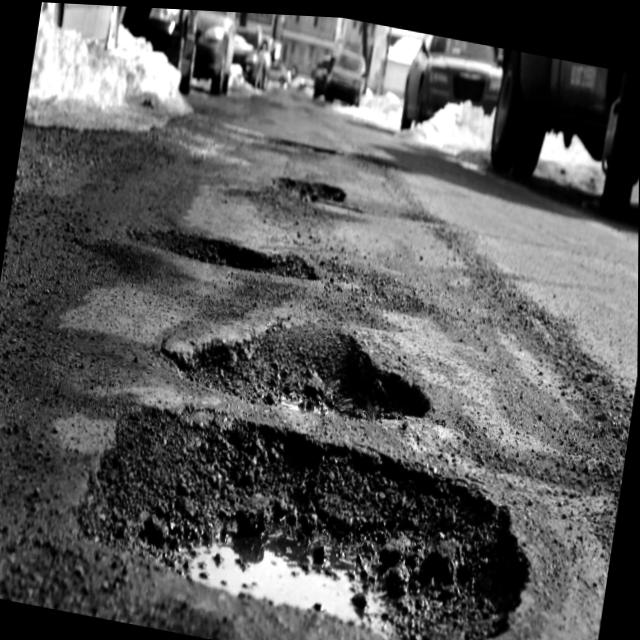pathole: (32, 359, 561, 640), (115, 267, 509, 451), (105, 193, 347, 311), (247, 116, 372, 245)
